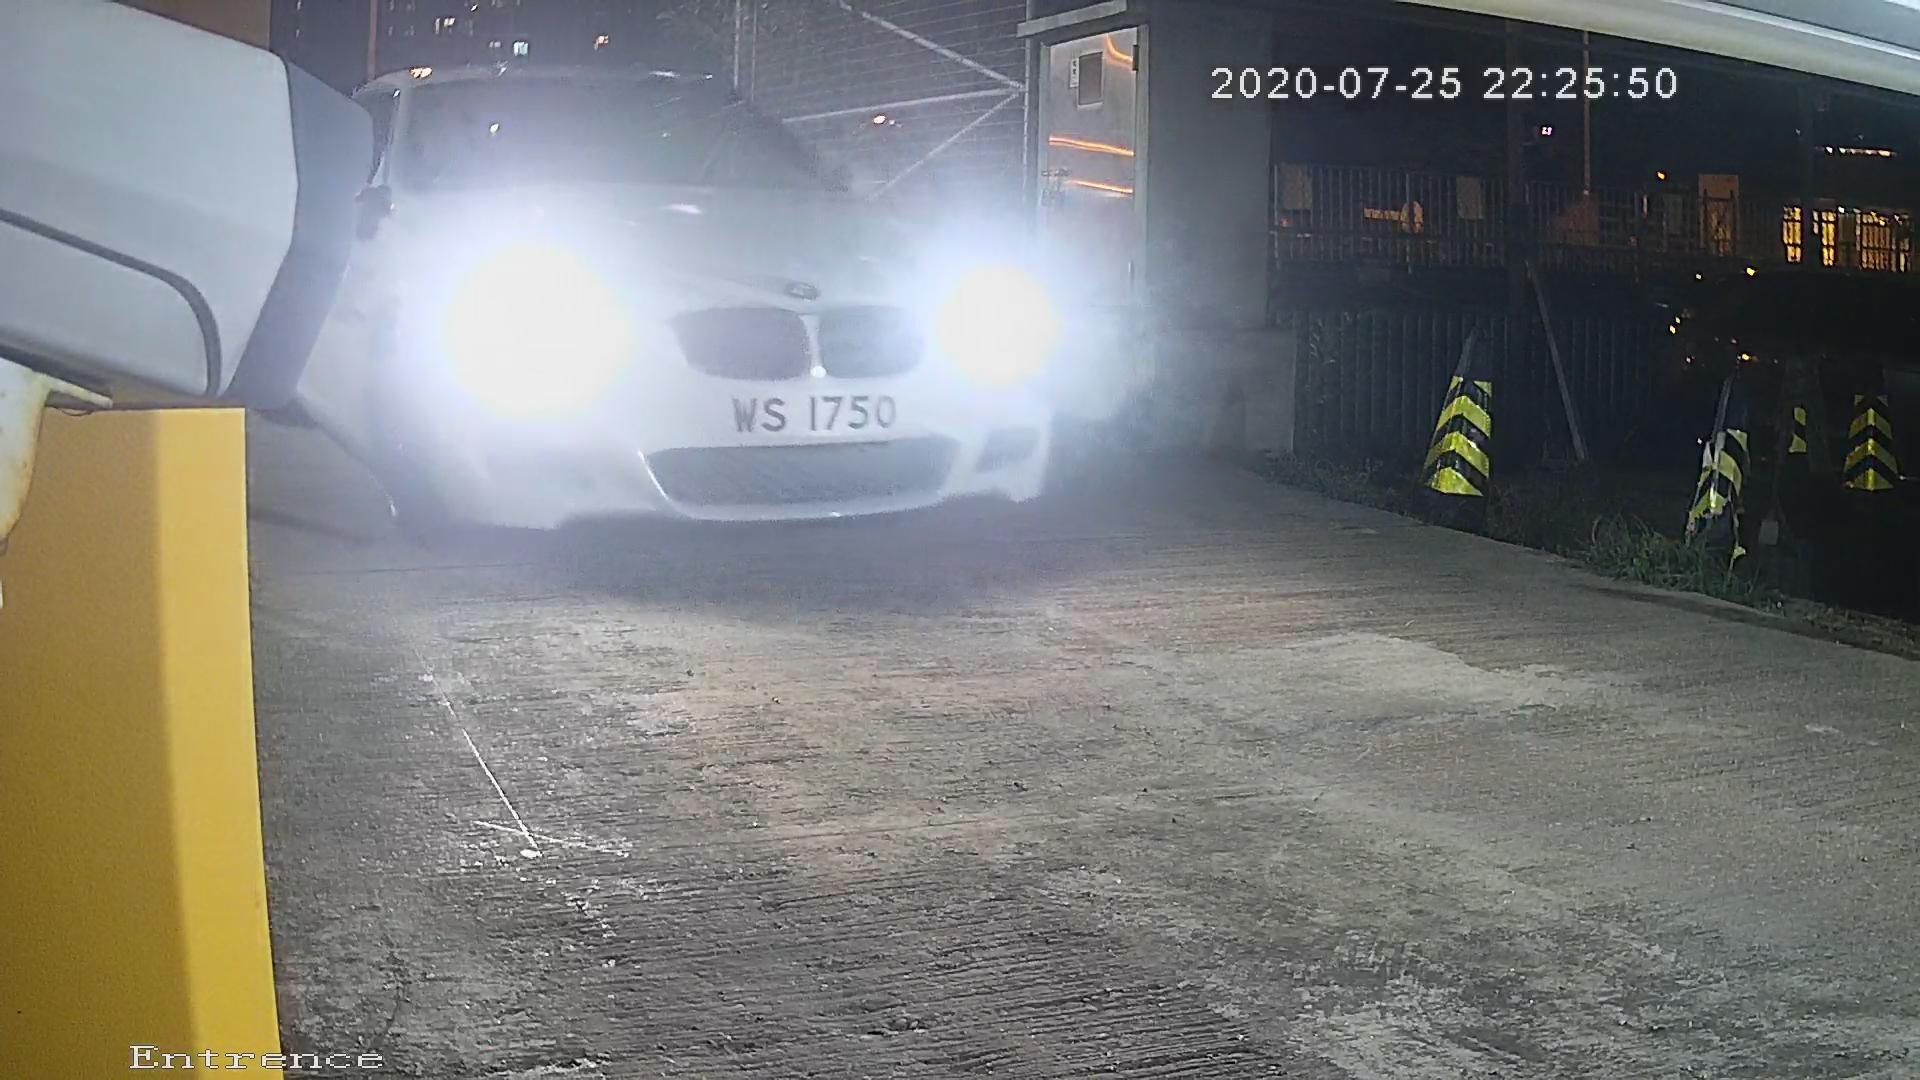License Plate: (707, 373, 943, 456)
